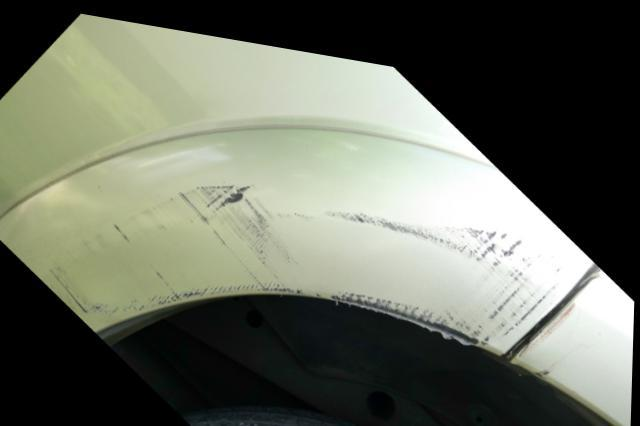rub: (44, 172, 569, 336)
